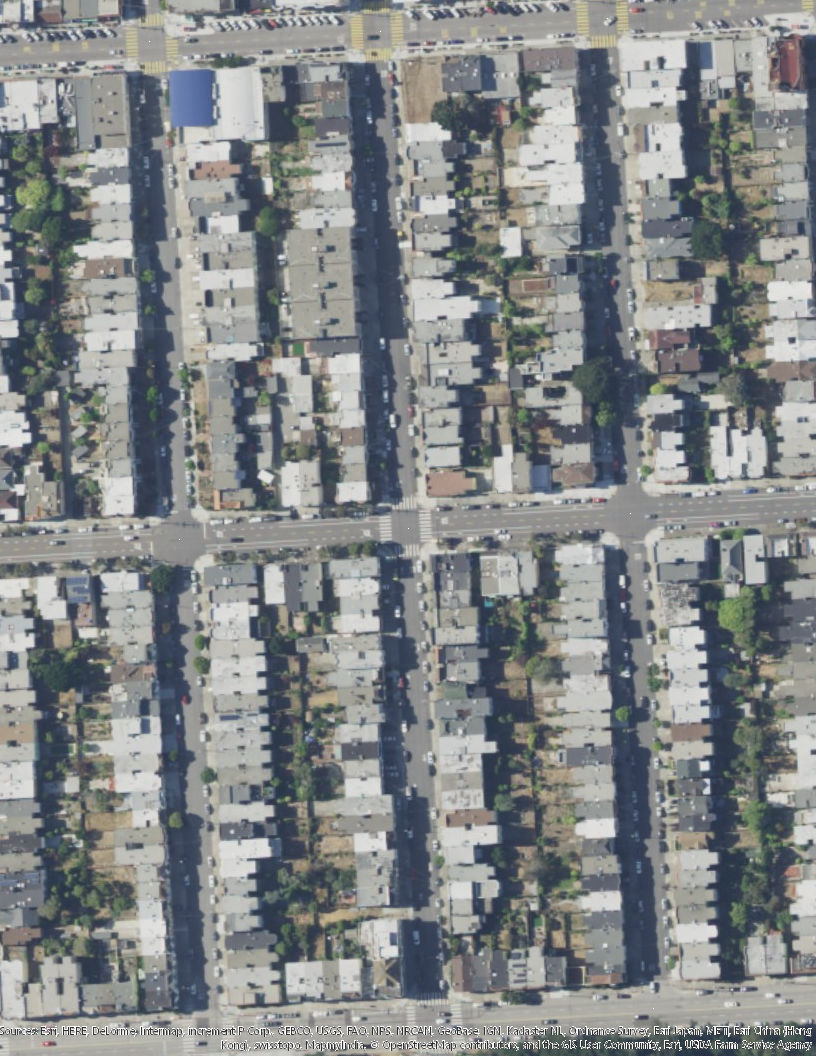zebracross: (589, 32, 617, 51), (349, 13, 364, 48), (575, 1, 590, 36), (417, 991, 451, 1006), (614, 1, 630, 32), (418, 510, 432, 539), (391, 13, 403, 45), (361, 1, 392, 13), (140, 13, 164, 28), (393, 496, 417, 511), (125, 26, 137, 55), (365, 48, 393, 60), (396, 544, 420, 558), (164, 37, 178, 59), (380, 512, 391, 540), (144, 61, 165, 72), (451, 1004, 461, 1026), (183, 1036, 193, 1056), (408, 1004, 415, 1028), (803, 1, 815, 11)
